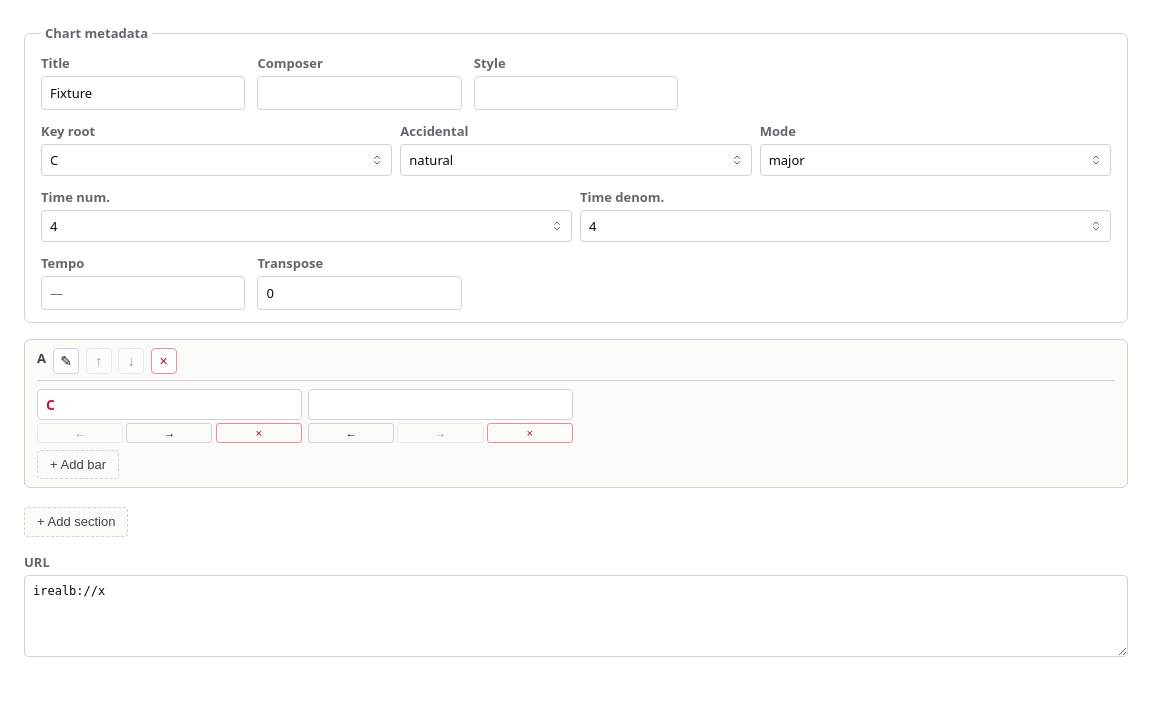
Test: <IrealBarGrid> popover — open / dismiss › opening a second popover closes the first AND swaps the bound bar
Click the button named "Edit bar 1".
click(50, 404)  # box [37,389,302,420]
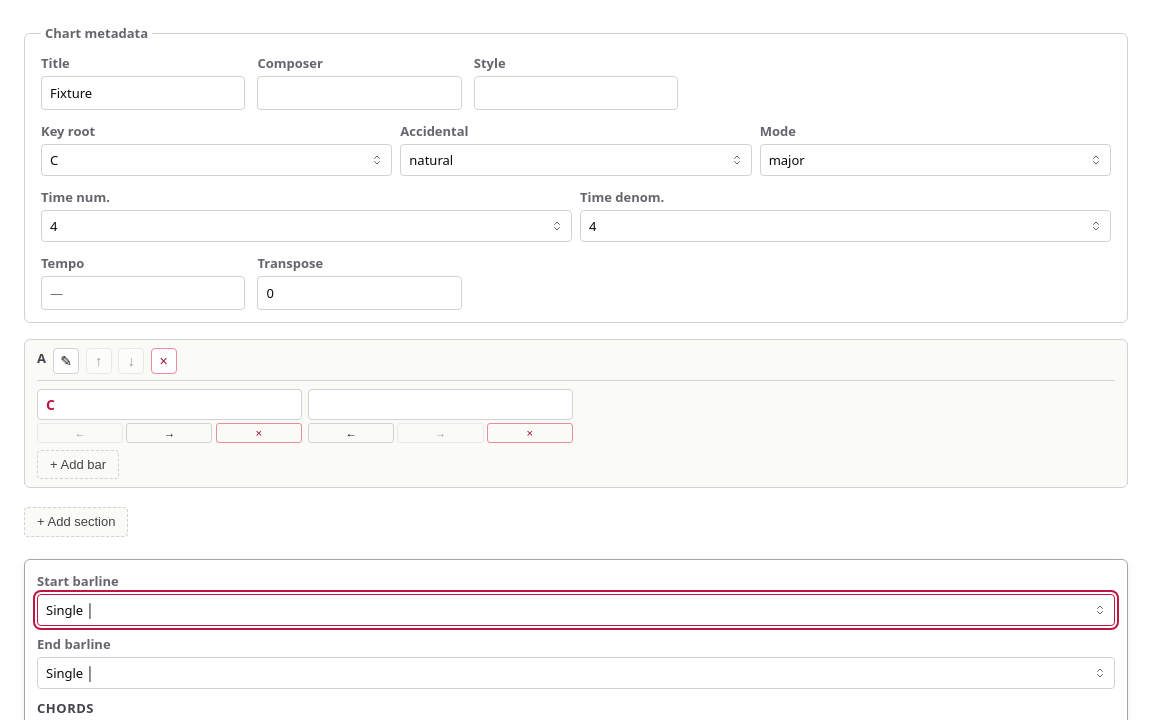
Result: the dropdown labelled "Start barline" shows "Single │" at [37,594,1115,626]
Click the button named "Edit bar 2".
click(440, 404)  # box [308,389,573,420]
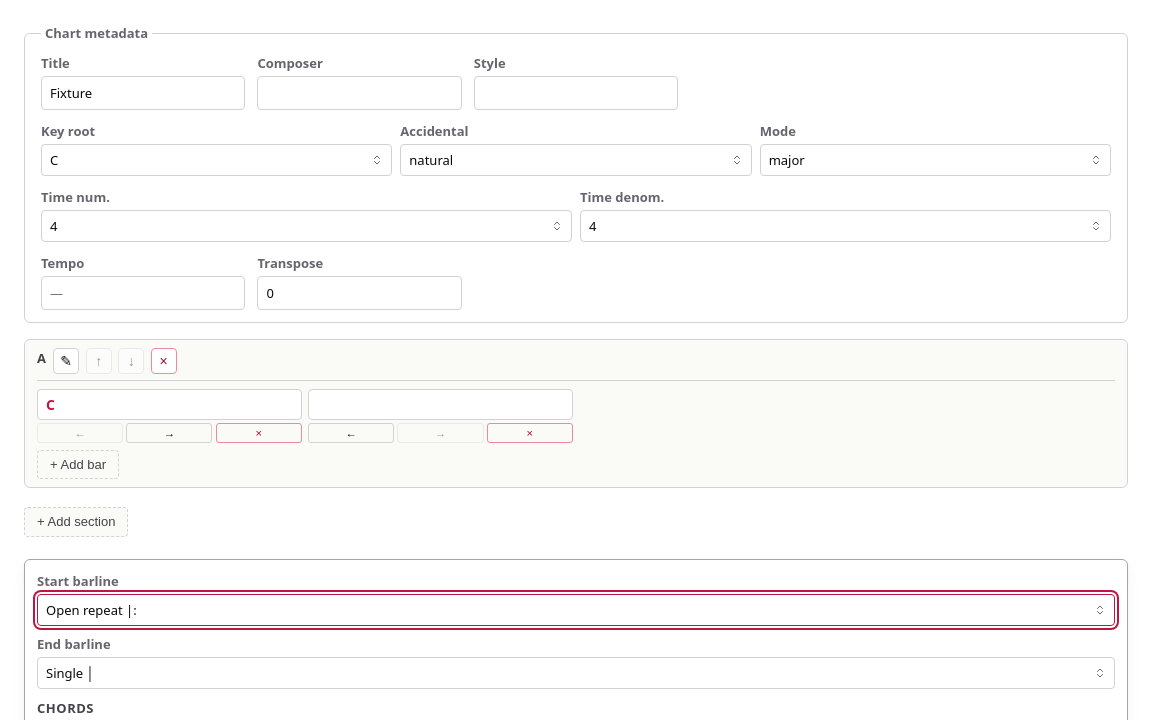
Result: the dropdown labelled "Start barline" shows "Open repeat |:" at [37,594,1115,626]
